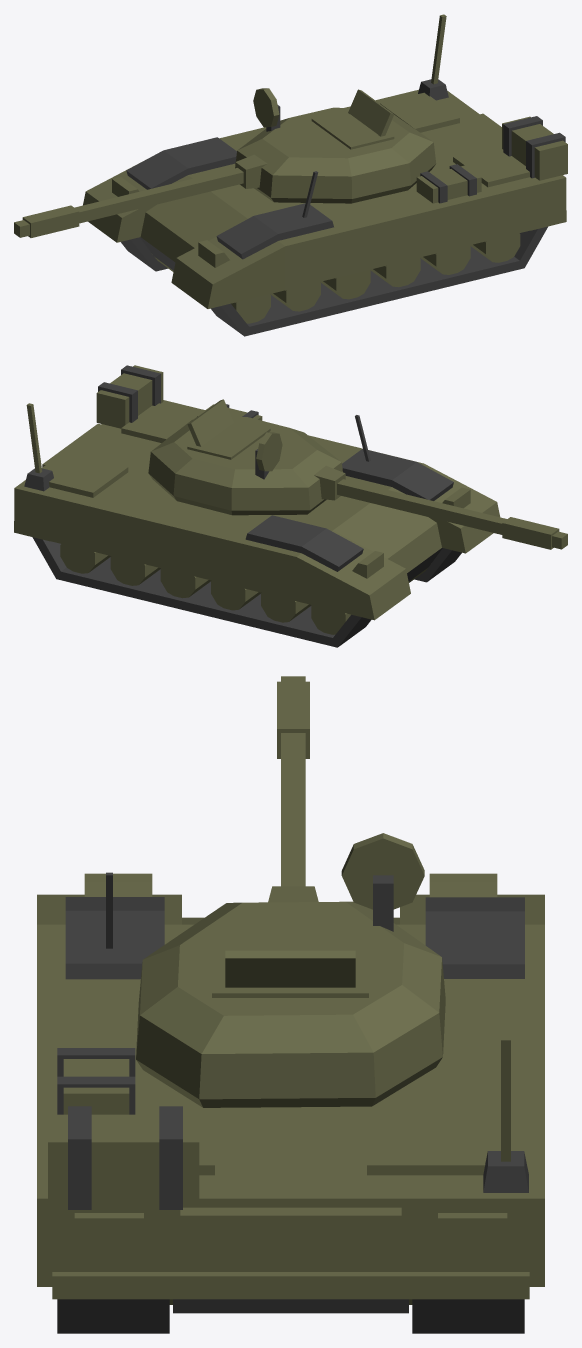
Rendered from Low_Poly_Tank.glb.
3 renders of one model, top to bottom at view 1: azimuth 30°, elevation 25°; view 2: azimuth 150°, elevation 25°; view 3: azimuth 270°, elevation 25°, orthographic. The views are drawn at different scales.
Visible parts, largest first — view 1: Cube.002_Material.001_0, Cube.002_Material.002_0, Cube.002_Material.003_0, Cube.002_Material.005_0, Cube.002_Material.004_0; view 2: Cube.002_Material.001_0, Cube.002_Material.002_0, Cube.002_Material.003_0, Cube.002_Material.005_0, Cube.002_Material.004_0; view 3: Cube.002_Material.001_0, Cube.002_Material.002_0, Cube.002_Material.005_0, Cube.002_Material.003_0, Cube.002_Material.004_0.
Boxes of the visible parts, x1,y1,x2,y2 form: Cube.002_Material.001_0: (14, 89, 566, 308); Cube.002_Material.002_0: (121, 79, 565, 336); Cube.002_Material.003_0: (152, 14, 567, 323); Cube.002_Material.005_0: (22, 89, 566, 237); Cube.002_Material.004_0: (112, 179, 215, 267); Cube.002_Material.001_0: (14, 400, 567, 620); Cube.002_Material.002_0: (24, 365, 461, 647); Cube.002_Material.003_0: (26, 365, 430, 634); Cube.002_Material.005_0: (14, 399, 559, 549); Cube.002_Material.004_0: (367, 490, 470, 578); Cube.002_Material.001_0: (37, 676, 544, 1286); Cube.002_Material.002_0: (57, 872, 528, 1333); Cube.002_Material.005_0: (52, 681, 529, 1299); Cube.002_Material.003_0: (48, 833, 510, 1304); Cube.002_Material.004_0: (74, 1213, 507, 1250).
Bounding box in the file's own units: 1134 × 358 × 506.
